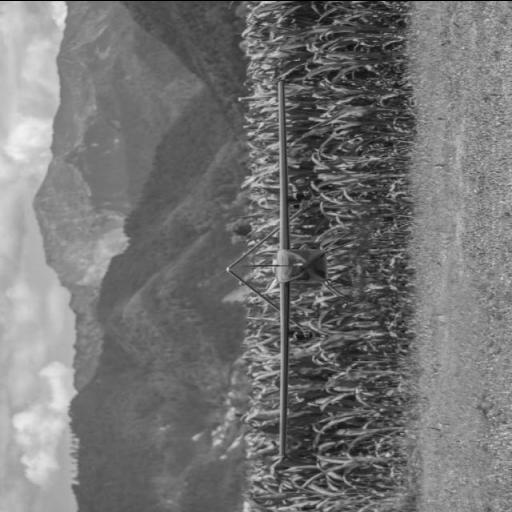uav: (222, 78, 348, 460)
